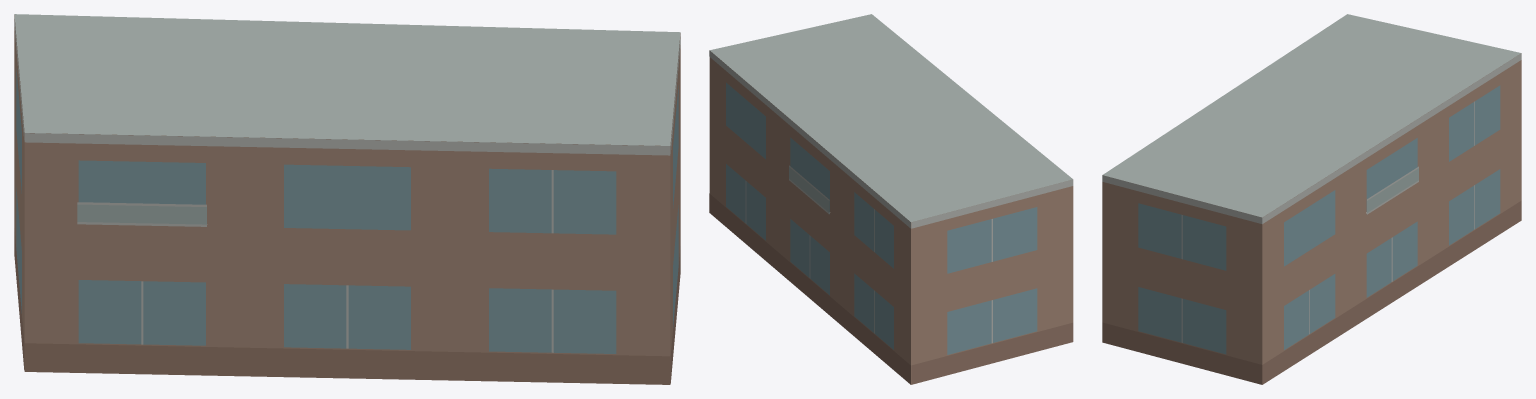
File: survey-upis-32639944.glb
3 renders of one model, left to right at view 1: azimuth 30°, elevation 25°; view 2: azimuth 150°, elevation 25°; view 3: azimuth 270°, elevation 25°, orthographic. The views are drawn at different scales.
Parts seen in each view (by area): view 1: survey-upis-32639944.tmp; view 2: survey-upis-32639944.tmp; view 3: survey-upis-32639944.tmp.
Part boxes in pixels (bbox=[...]): survey-upis-32639944.tmp: bbox=[14, 14, 680, 384]; survey-upis-32639944.tmp: bbox=[709, 14, 1073, 384]; survey-upis-32639944.tmp: bbox=[1102, 14, 1521, 384].
Size of the model in its own units: 15.92 by 6.1 by 13.86.
